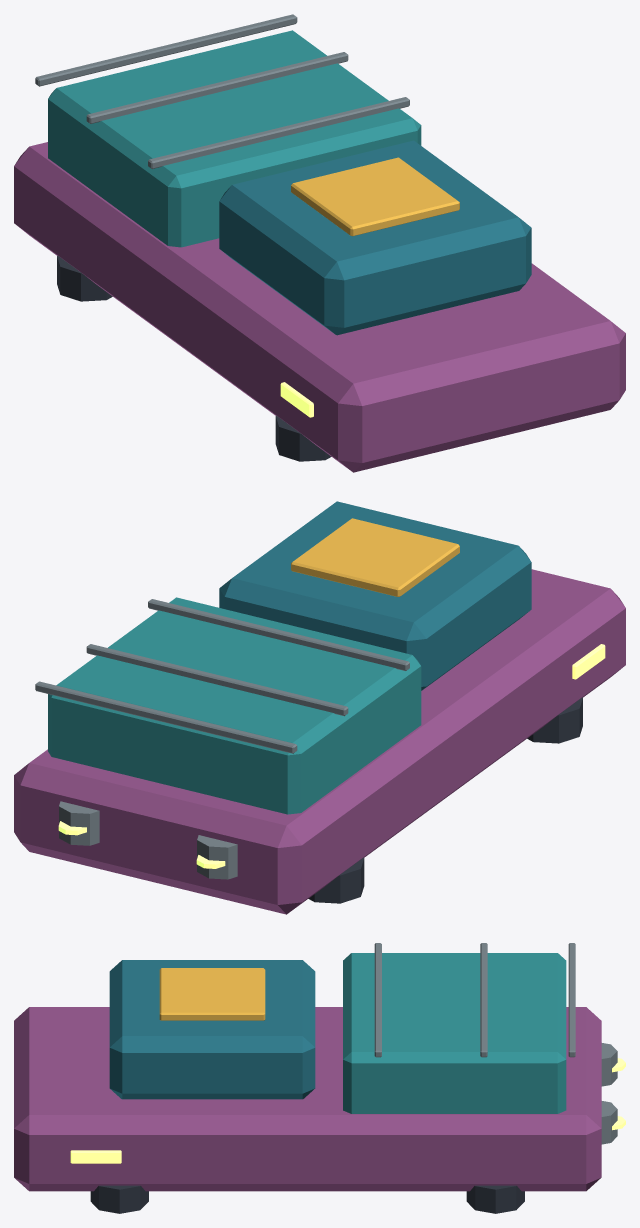
The model's file is vehicles_005_seed11.glb.
3 views of the same model, one above another, from view 1: azimuth 30°, elevation 25°; view 2: azimuth 150°, elevation 25°; view 3: azimuth 270°, elevation 25° (orthographic). The views are drawn at different scales.
Visible parts, largest first — view 1: vehicles_005_seed11; view 2: vehicles_005_seed11; view 3: vehicles_005_seed11.
Boxes of the visible parts, x1,y1,x2,y2 form: vehicles_005_seed11: [14, 14, 625, 472]; vehicles_005_seed11: [14, 501, 625, 914]; vehicles_005_seed11: [14, 943, 625, 1213].
Size of the model in its own units: 2.46 by 1.49 by 5.04.
